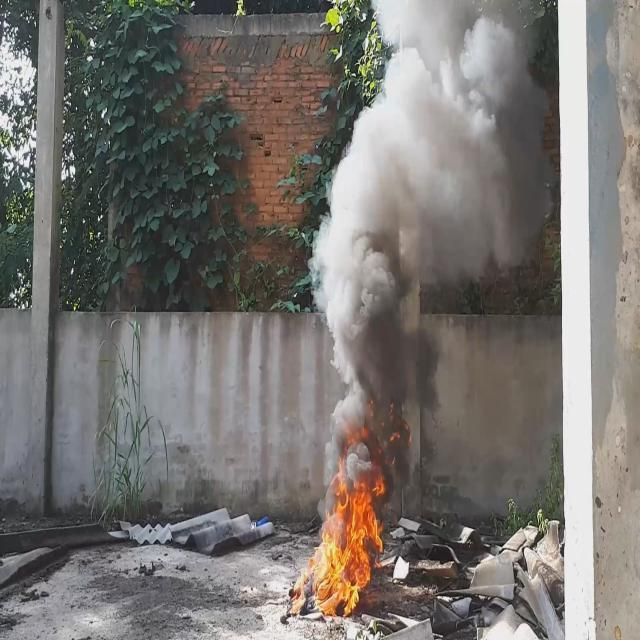Fire: (290, 406, 408, 618)
Smoke: (308, 0, 529, 482)
